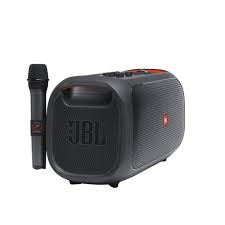microphone: (17, 62, 48, 171)
speaker: (49, 83, 200, 185)
